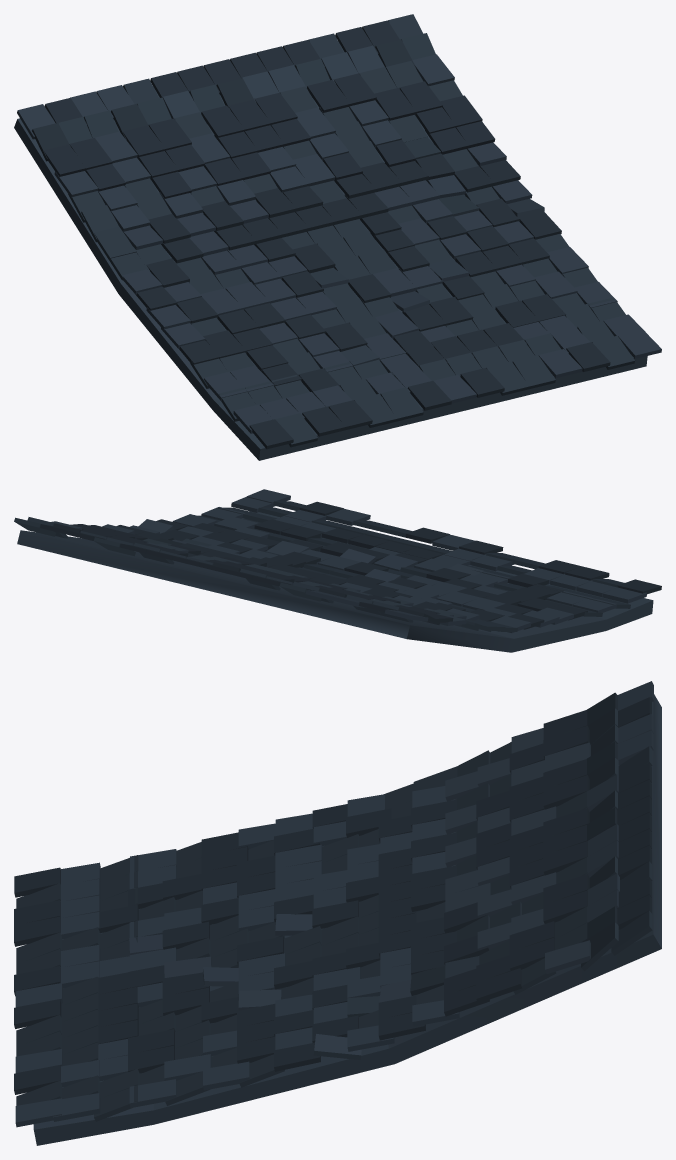
File: Roof_Tile01_JP.fbx
3 renders of one model, top to bottom at view 1: azimuth 30°, elevation 25°; view 2: azimuth 150°, elevation 25°; view 3: azimuth 270°, elevation 25°, orthographic. The views are drawn at different scales.
Visible parts, largest first — view 1: Roof_Tile01_JP_LOD0; view 2: Roof_Tile01_JP_LOD0; view 3: Roof_Tile01_JP_LOD0.
Part boxes in pixels (bbox=[...]): Roof_Tile01_JP_LOD0: bbox=[14, 14, 661, 460]; Roof_Tile01_JP_LOD0: bbox=[14, 489, 661, 652]; Roof_Tile01_JP_LOD0: bbox=[14, 681, 661, 1145].
Size of what is drawn, in the model's own units: 650 by 274 by 719.
